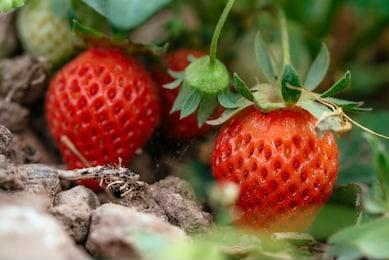Fresa: (207, 79, 342, 241), (36, 32, 165, 193)
